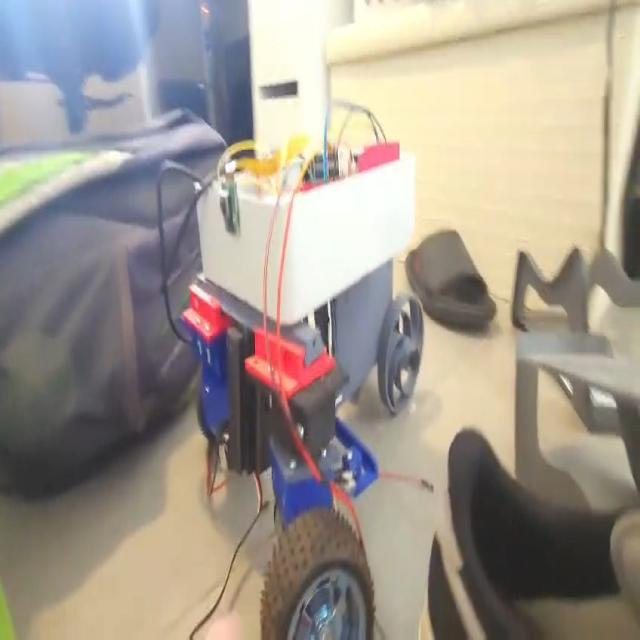Robot: (178, 136, 424, 640)
